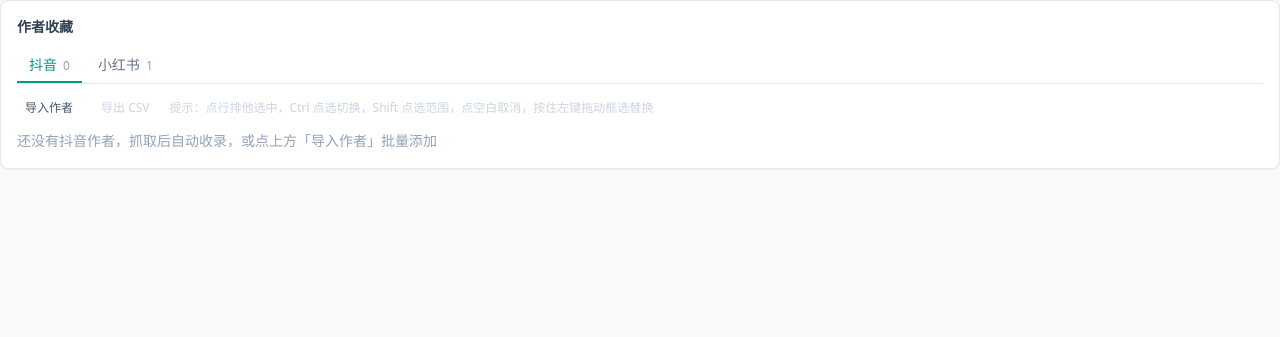
Test case: 爬过的博主：不再被「已爬过」拦掉，默认只抓新视频 › 弹窗写明上次爬取时间，并默认选中「只抓新视频」，起点是库里最新视频的北京时间日期
What coordinates should you click on to do the following:
click the tab "小红书1"
I would click on:
 (125, 66)
Its box is [86, 49, 165, 83].
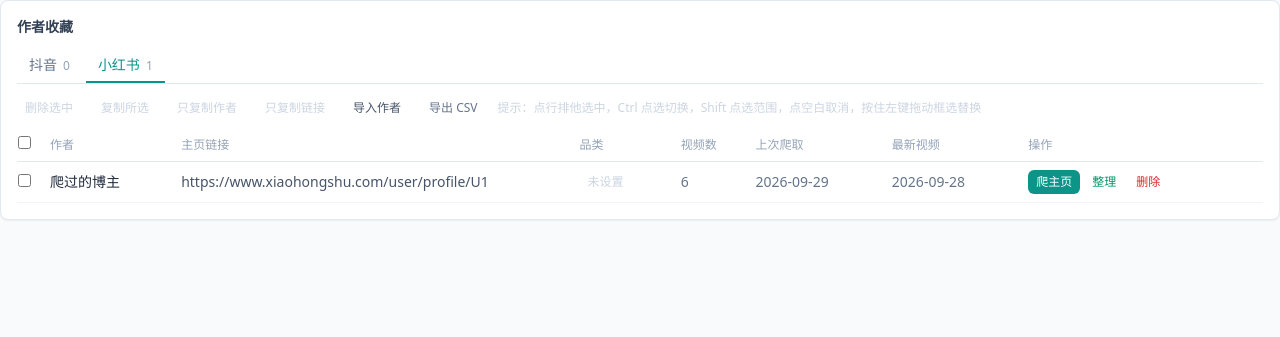
Result: the text "爬过的博主" is shown at [49, 162, 180, 202]
What coordinates should you click on to do the following:
click the button "爬主页"
I would click on:
 (1054, 182)
Its box is [1028, 170, 1080, 194].
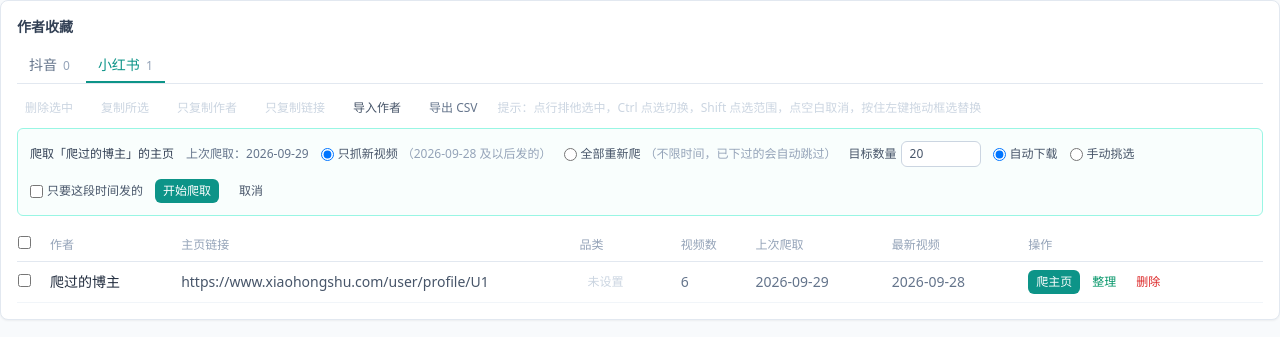
Result: the text "上次爬取：2026-09-29" is shown at [186, 146, 309, 162]
Result: the radio button labelled "只抓新视频 （2026-09-28 及以后发的）" is checked at [321, 148, 334, 160]
Result: the text "（2026-09-28 及以后发的）" is shown at [402, 146, 552, 162]
